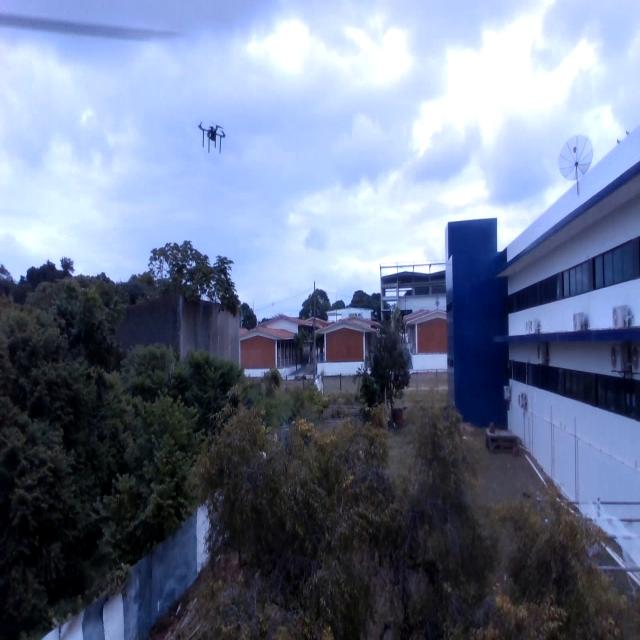-uav-: (196, 107, 231, 169)
